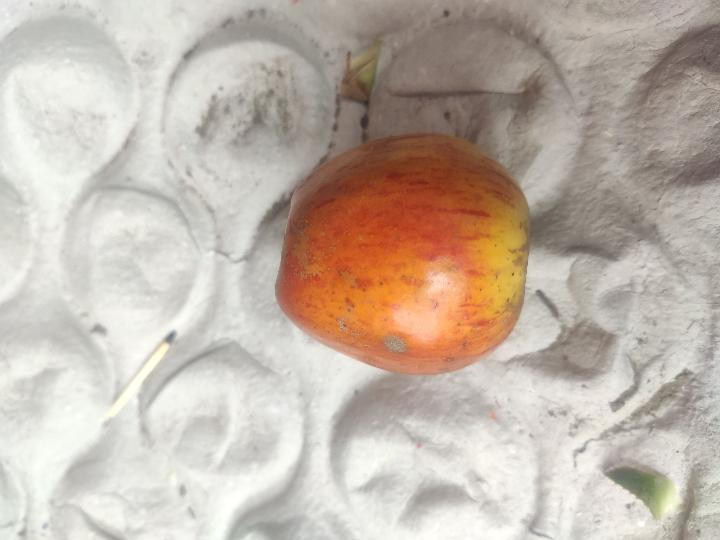apple: (276, 134, 529, 374)
bruise_discoloration: (289, 160, 352, 281), (412, 279, 438, 310), (339, 270, 358, 290)
surface_damage: (383, 336, 408, 353)
